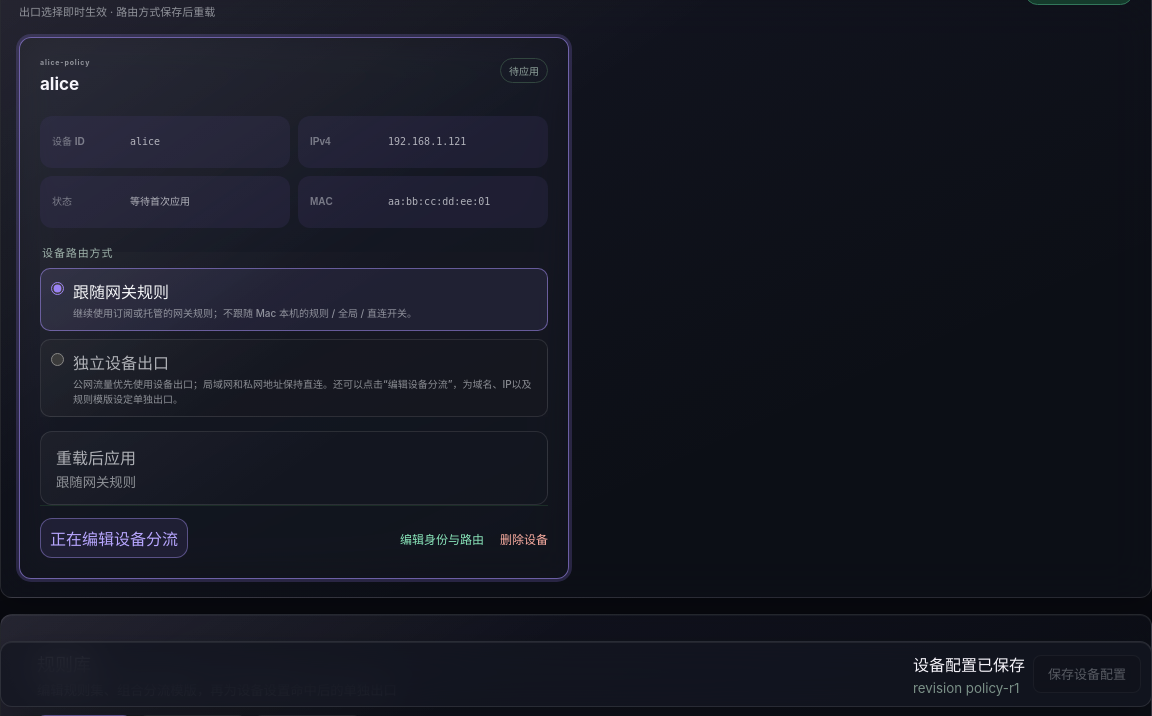
DevicesPage › replaces the dirty save bar with a floating reload bar after saving
The image size is (1152, 716).
(page scrolled)
What coordinates should you click on to do the following:
click the radio button labelled "独立设备出口"
I would click on:
 (58, 360)
Its box is left=51, top=353, right=64, bottom=366.
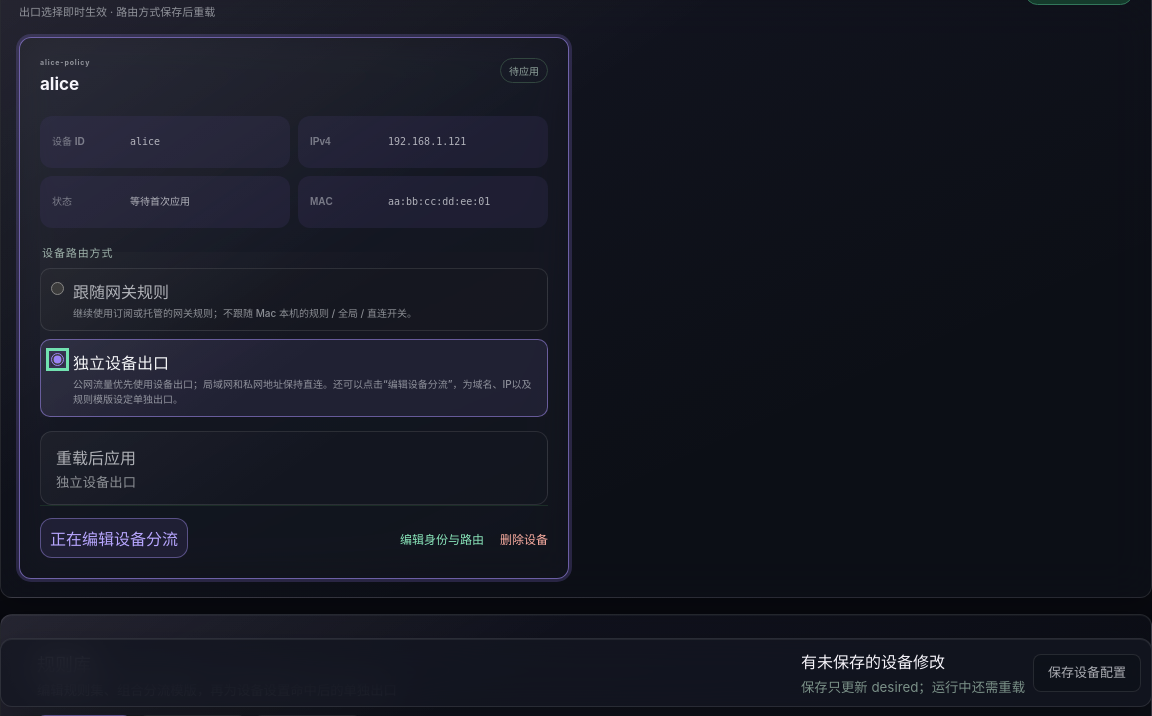
Now the element with class "sticky-save" has class "has-changes", box left=0, top=638, right=1151, bottom=707
What coordinates should you click on to do the following:
click the button "保存设备配置"
I would click on:
 (1087, 672)
Its box is left=1033, top=654, right=1141, bottom=692.
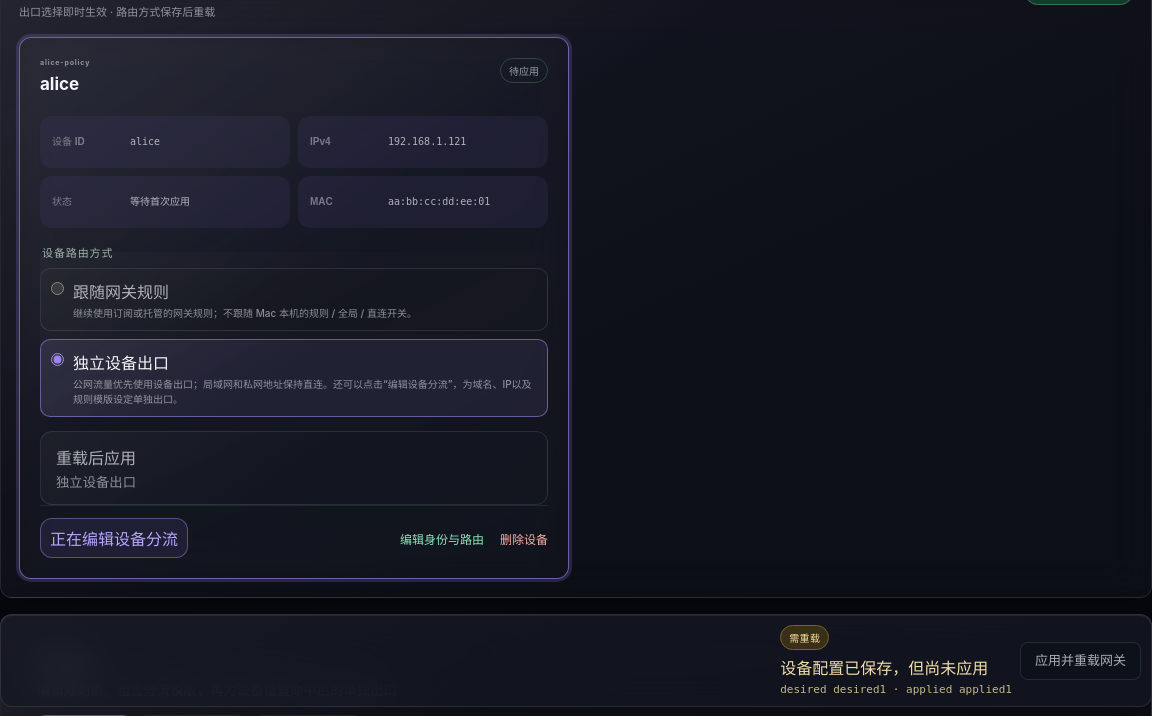
Now the button "应用并重载网关" is shown, box left=1020, top=642, right=1141, bottom=680
